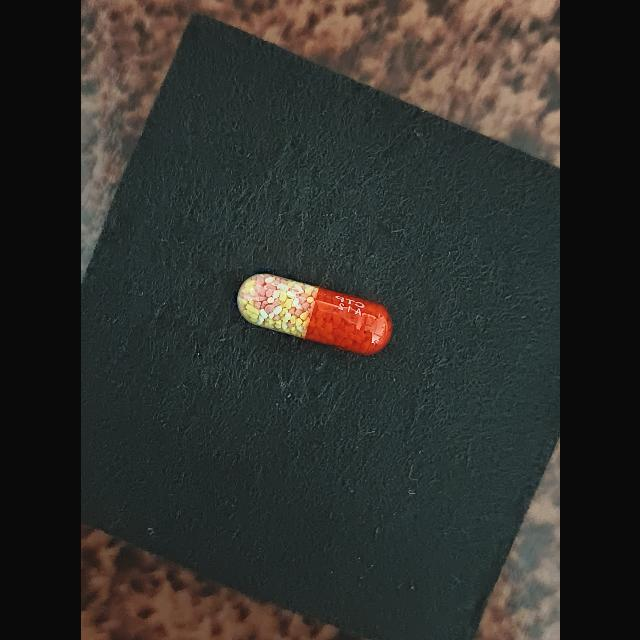Intact Capsule: (236, 274, 393, 355)
